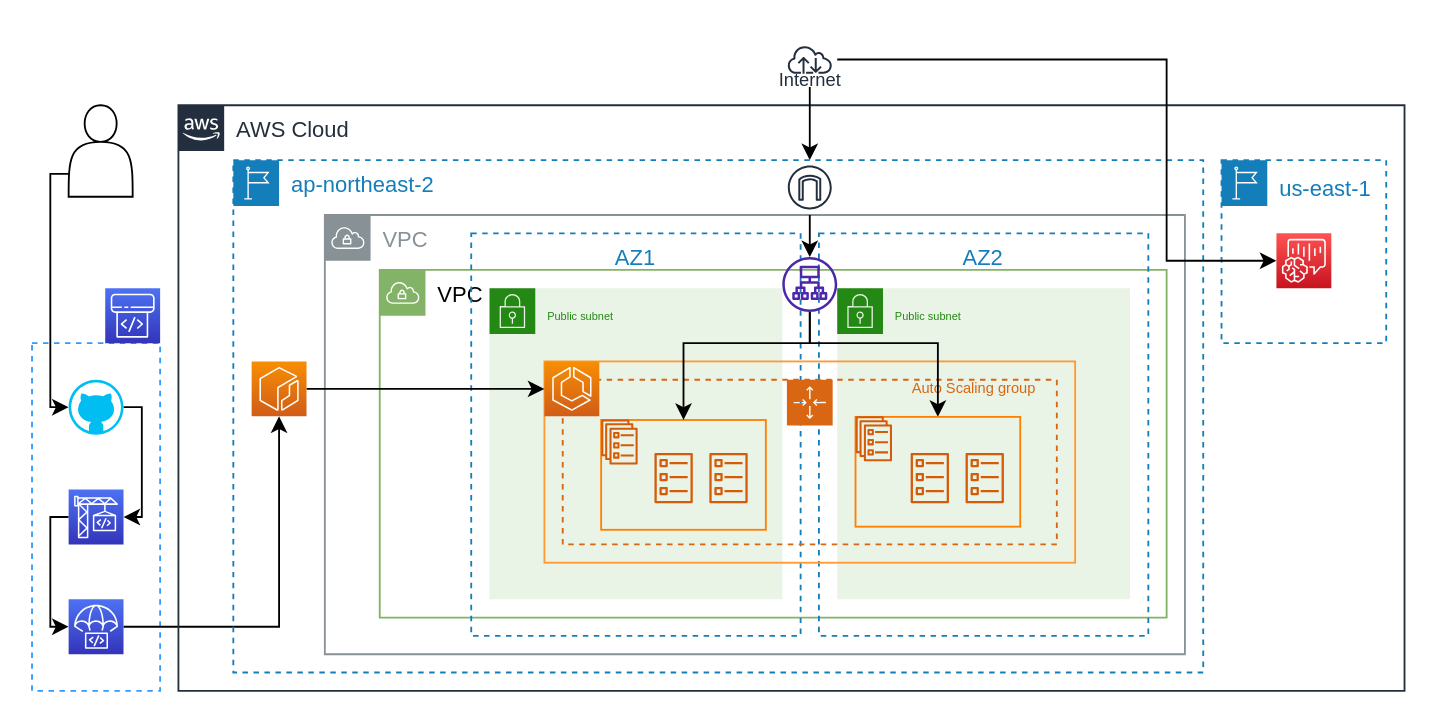
Some shapes in this 1437 by 723 pixel diagram are drawn without their labels. Here are the shapes that lost their labels. From the top down, the centre of each, then its label:
At pixel 100 150: "Dev".
At pixel 808 186: "Internet gateway".
